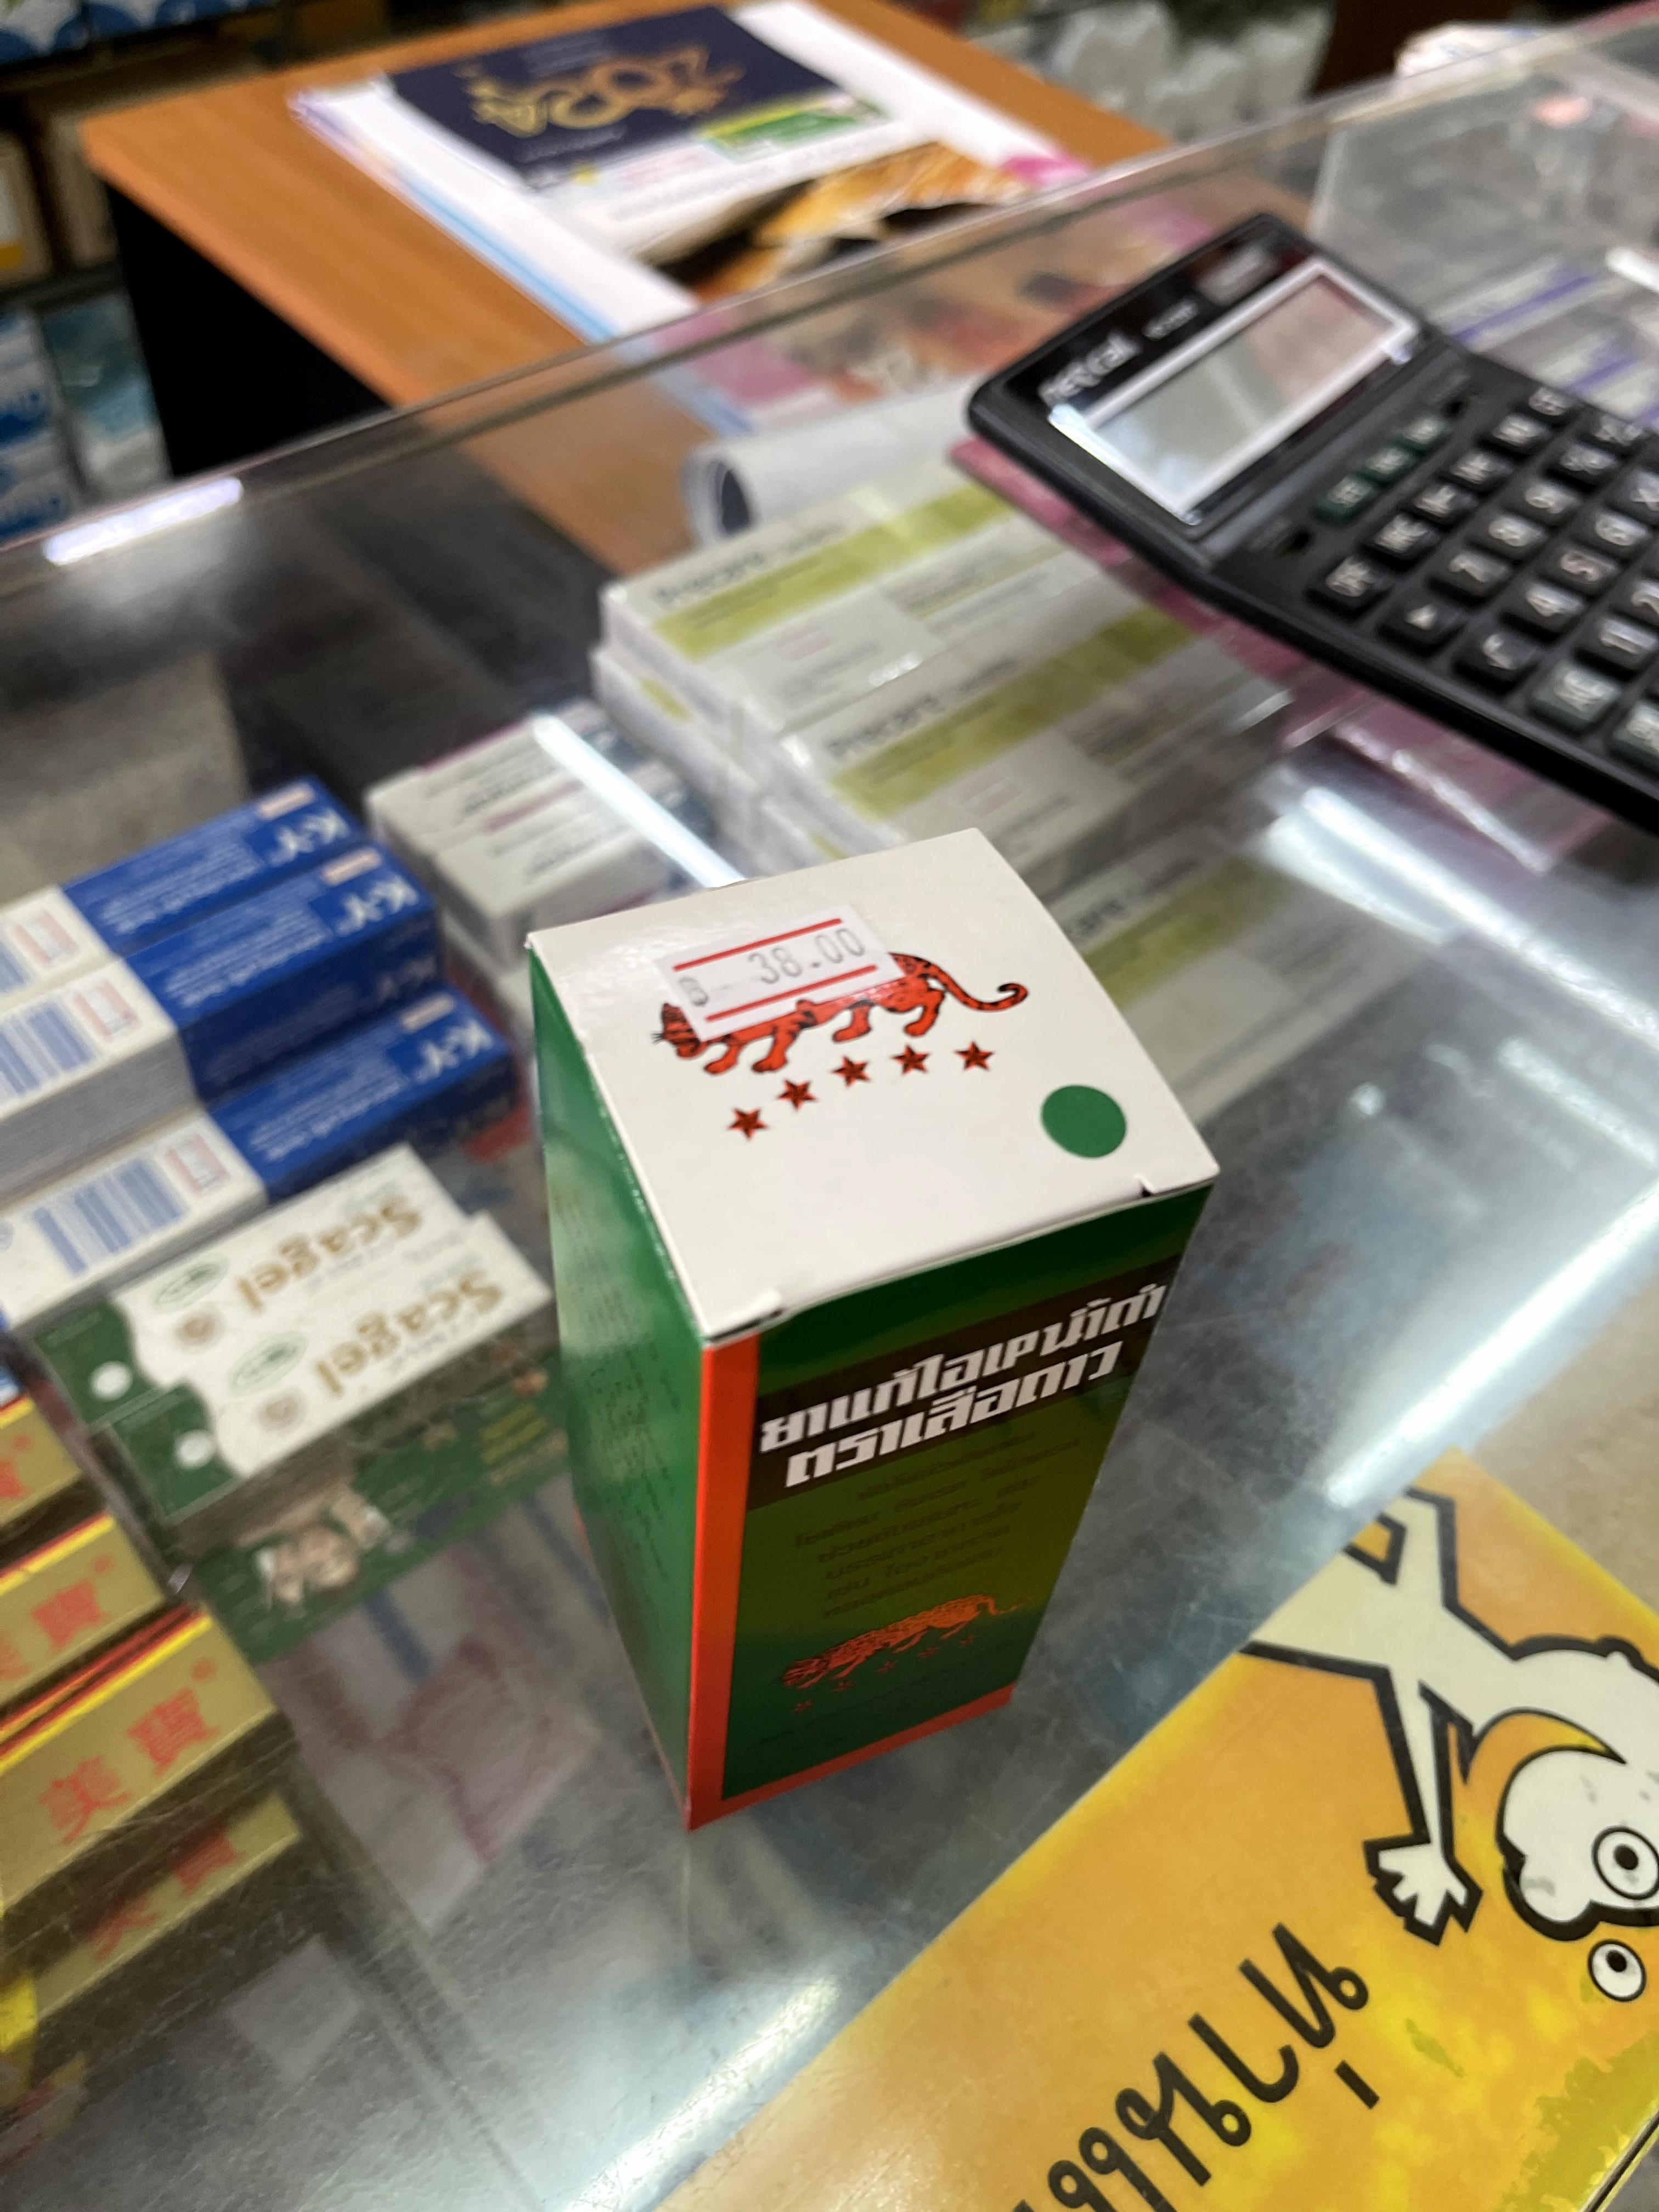Black-Tiger_Big: (544, 836, 1215, 1818)
